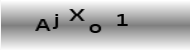1: (115, 13, 129, 26)
A: (35, 17, 50, 32)
X: (68, 7, 85, 22)
j: (52, 12, 60, 29)
o: (89, 22, 101, 34)
